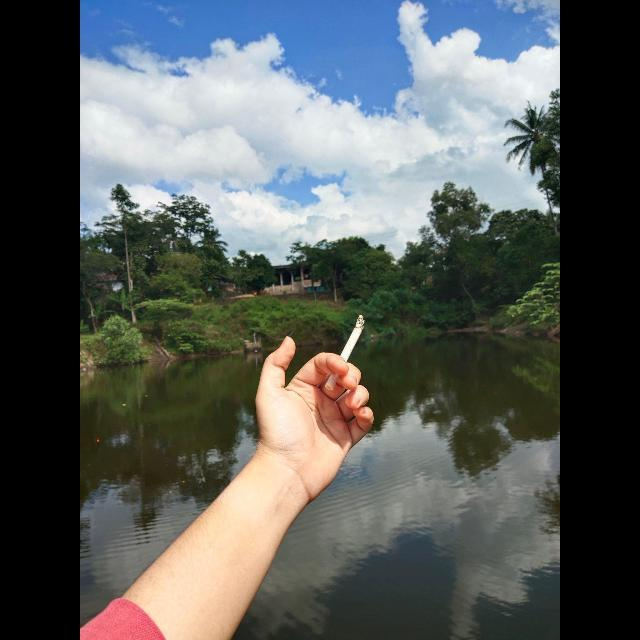rokok: (320, 315, 364, 389)
